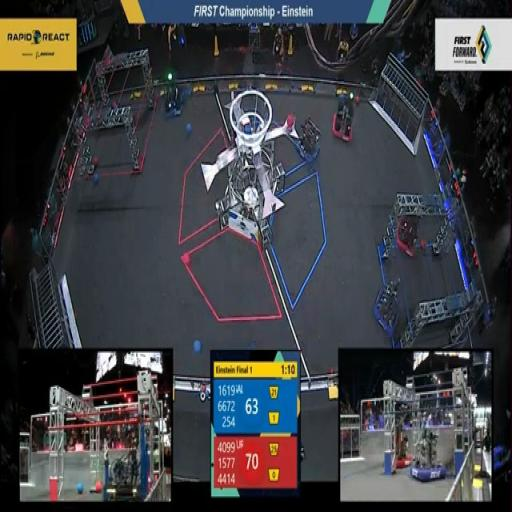robot: (371, 275, 406, 336), (394, 192, 423, 261), (294, 112, 324, 164), (330, 86, 358, 141), (159, 65, 185, 120)
